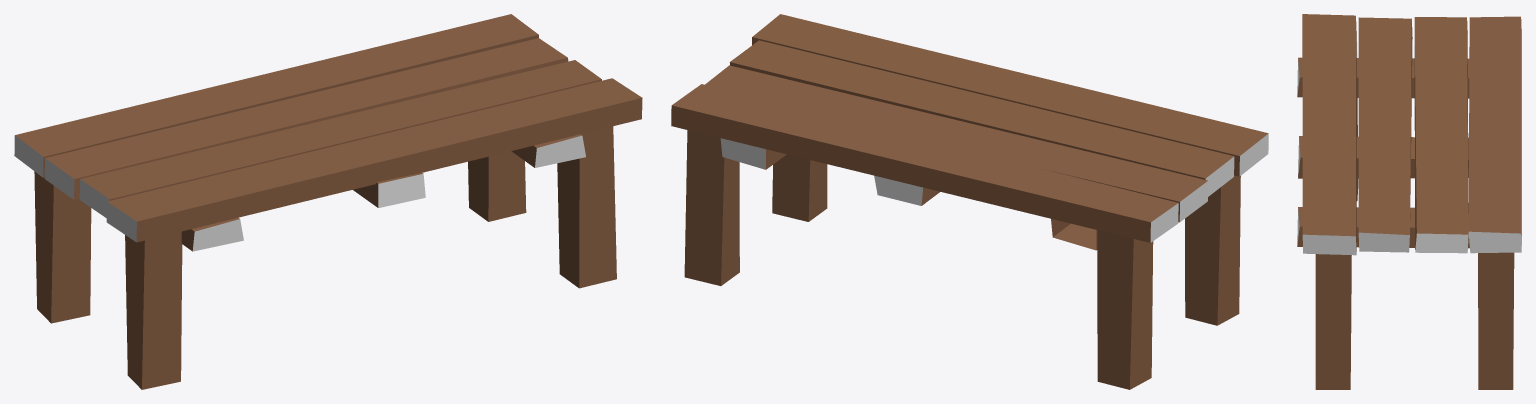
File: Table.fbx
The picture shows the model from 3 angles, left to right: view 1: azimuth 30°, elevation 25°; view 2: azimuth 150°, elevation 25°; view 3: azimuth 270°, elevation 25°; orthographic projection. The views are drawn at different scales.
Parts seen in each view (by area): view 1: Table; view 2: Table; view 3: Table.
Part boxes in pixels (x1,y1,x2,y2): Table: (14, 14, 642, 389); Table: (671, 14, 1268, 389); Table: (1297, 14, 1521, 389).
Size of the model in its own units: 265 by 91.36 by 114.
